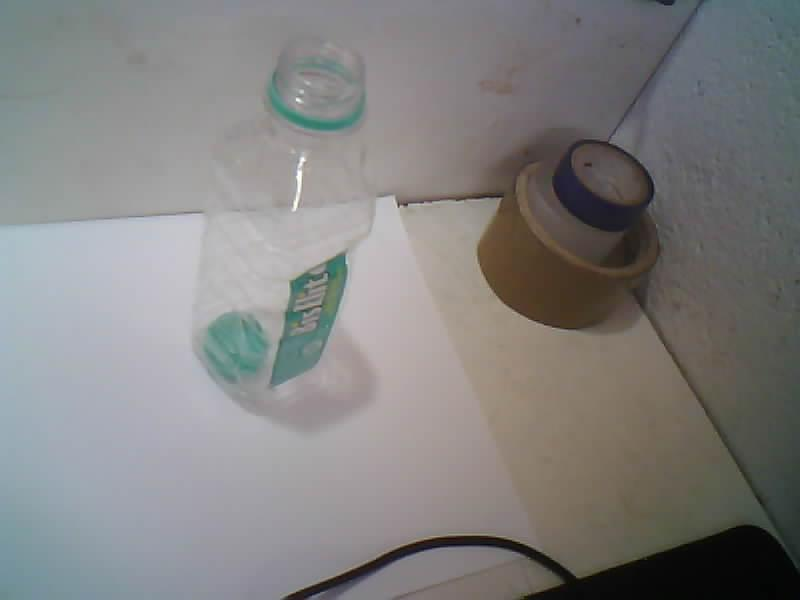non-biodegradable: (193, 40, 375, 413)
